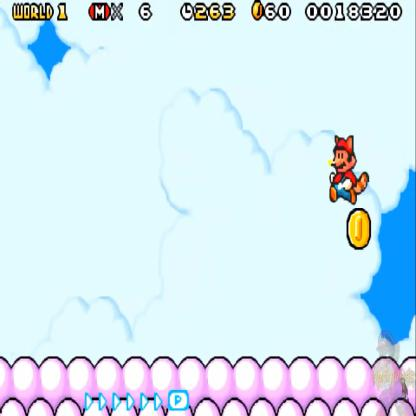Mario: (327, 133, 369, 207)
moneda: (346, 206, 373, 250), (249, 0, 265, 21)
